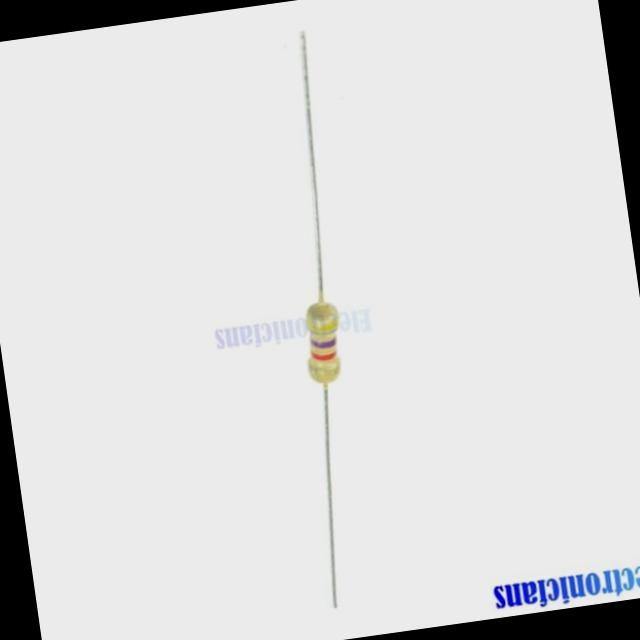Resistor: (307, 302, 341, 384)
gold: (307, 362, 340, 373)
purple: (307, 335, 338, 347)
red: (306, 348, 337, 361)
yellow: (303, 317, 337, 329)
